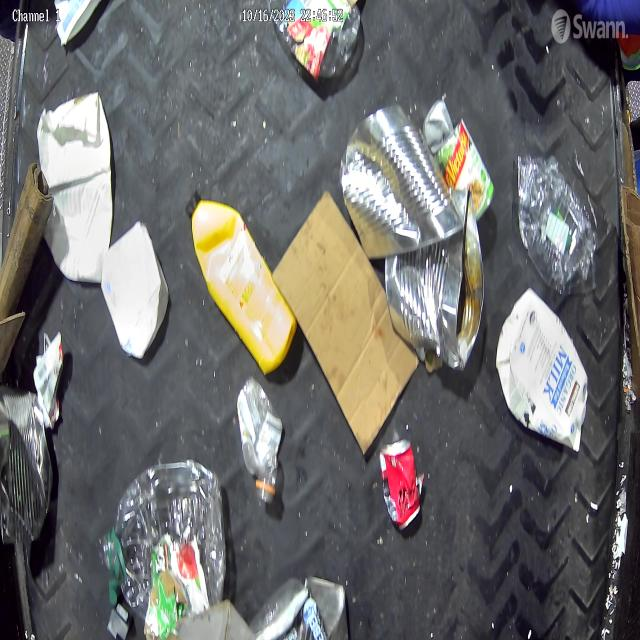can: (340, 103, 464, 260), (385, 190, 485, 372), (0, 385, 54, 544), (444, 120, 497, 220), (380, 436, 422, 530), (422, 96, 455, 158)
milk_jug: (496, 286, 588, 452)
non_white_jug: (191, 195, 296, 373)
plastic_bottle: (104, 456, 226, 626), (235, 373, 285, 508)
